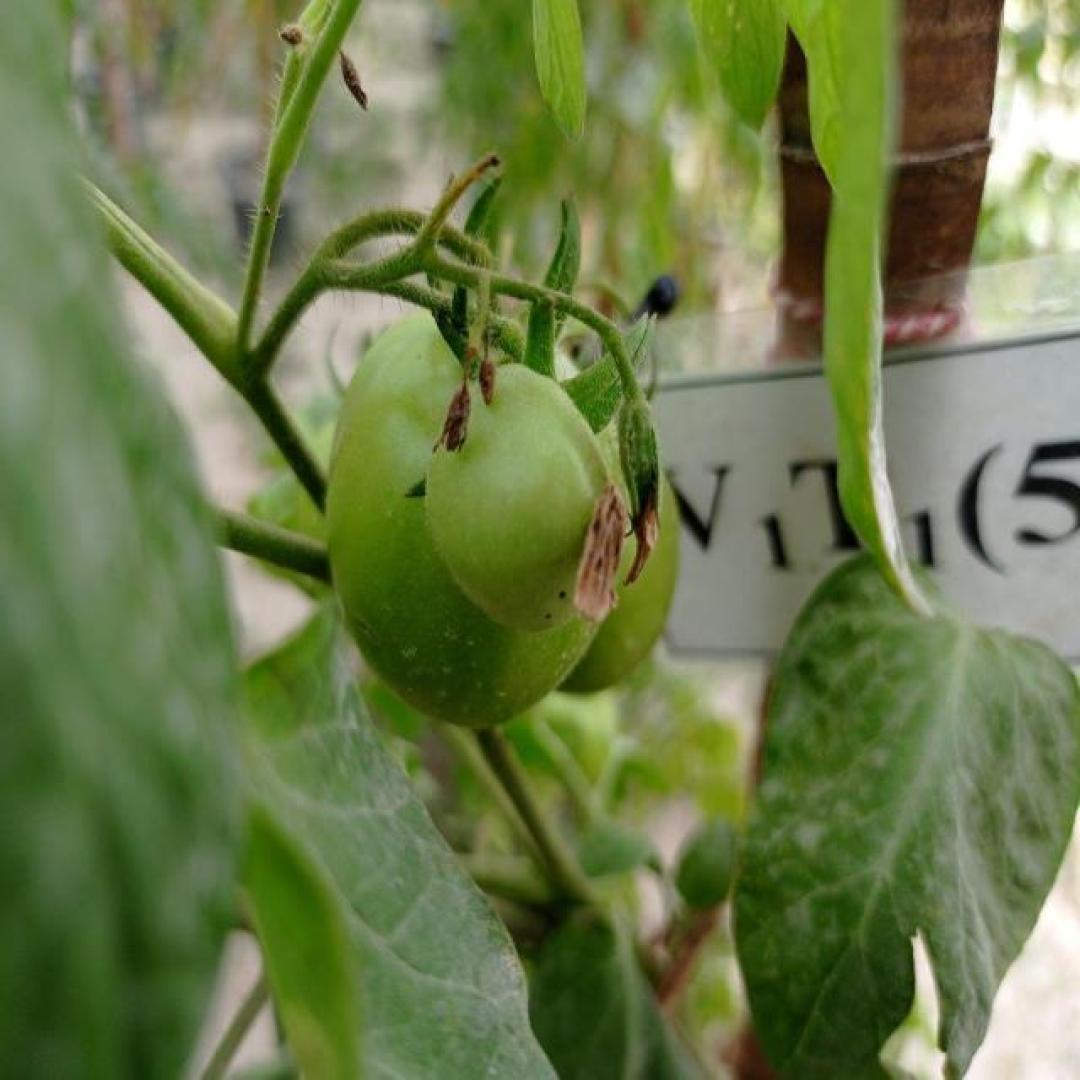mentah: (324, 305, 614, 729), (424, 364, 616, 638)
